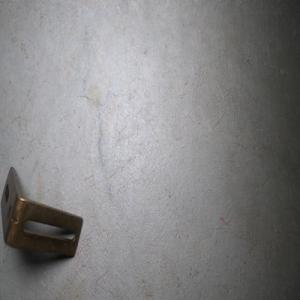MetalPart: (0, 165, 83, 258)
